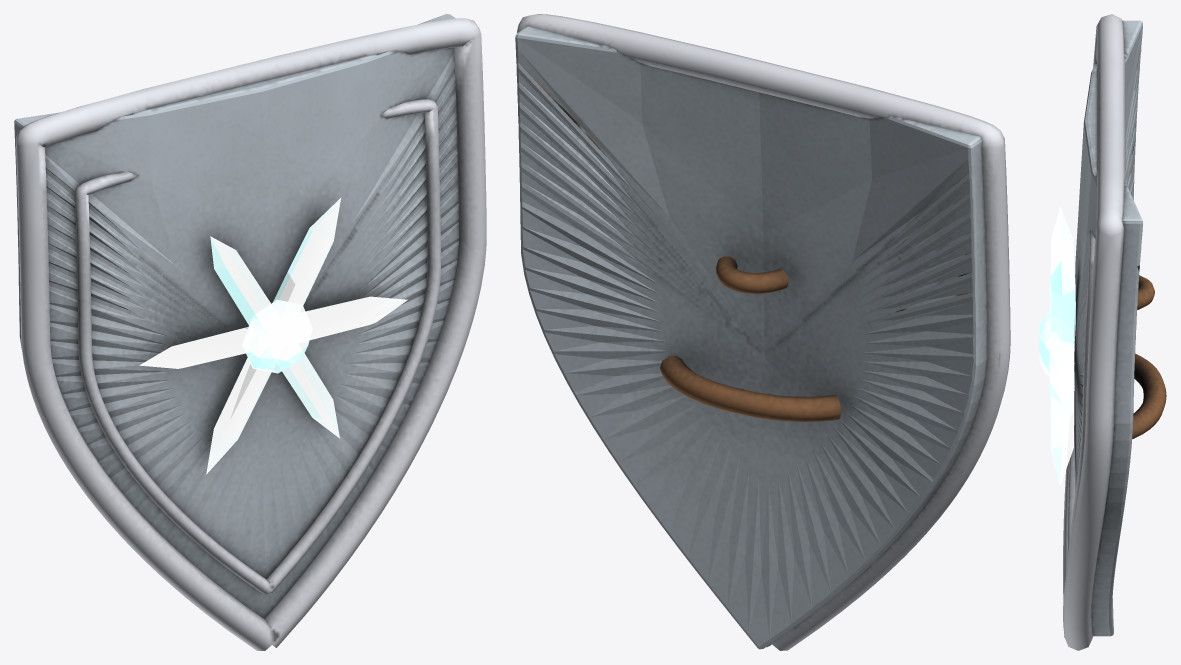
The model's file is arma_escudo_geada.glb.
The picture shows the model from 3 angles, left to right: view 1: azimuth 30°, elevation 25°; view 2: azimuth 150°, elevation 25°; view 3: azimuth 270°, elevation 25°; orthographic projection. The views are drawn at different scales.
Visible parts, largest first — view 1: arma_escudo_geada, gema, cristal5, cristal2, cristal0, cristal4, cristal3, cristal1; view 2: arma_escudo_geada; view 3: arma_escudo_geada, cristal5, cristal1, cristal0, gema, cristal4.
Boxes of the visible parts, x1,y1,x2,y2 form: arma_escudo_geada: (14,14,486,650); gema: (242,299,312,373); cristal5: (273,197,341,337); cristal2: (206,339,286,474); cristal0: (281,296,407,345); cristal4: (210,236,278,332); cristal3: (139,327,278,368); cristal1: (274,343,339,438); arma_escudo_geada: (515,14,1010,650); arma_escudo_geada: (1063,14,1166,650); cristal5: (1049,261,1075,348); cristal1: (1050,350,1074,485); cristal0: (1049,338,1074,404); gema: (1039,312,1071,376); cristal4: (1050,206,1073,337).
Size of the model in its own units: 0.53 by 0.6261 by 0.1336.
Materials: 8 (1 with a texture image).
